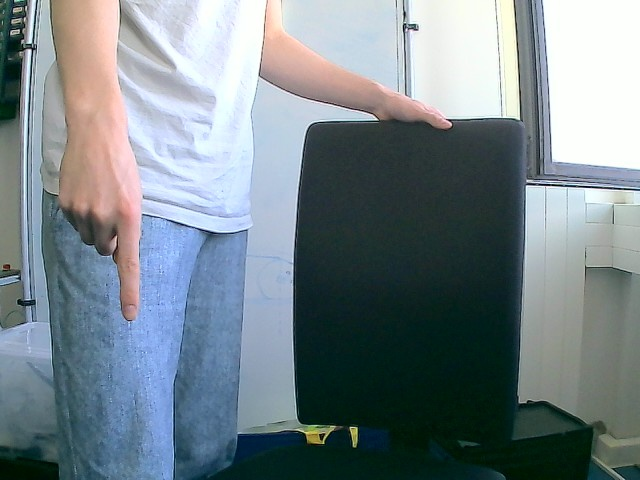down: (55, 129, 144, 322)
no_gesture: (370, 81, 457, 129)
